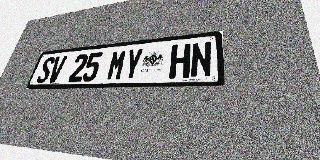2: (68, 53, 89, 82)
5: (81, 52, 103, 82)
H: (169, 43, 191, 79)
M: (106, 49, 128, 81)
N: (190, 41, 212, 78)
S: (35, 57, 56, 83)
V: (46, 56, 68, 83)
Y: (122, 48, 144, 80)
